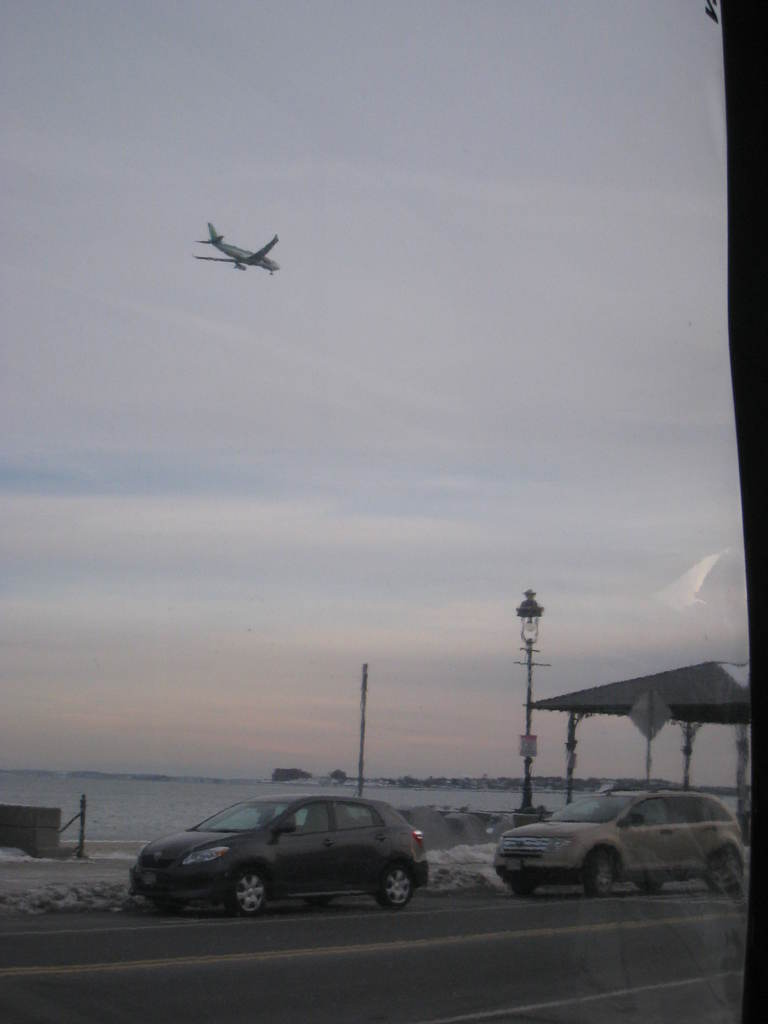Car: (128, 785, 440, 915), (486, 779, 748, 898)
